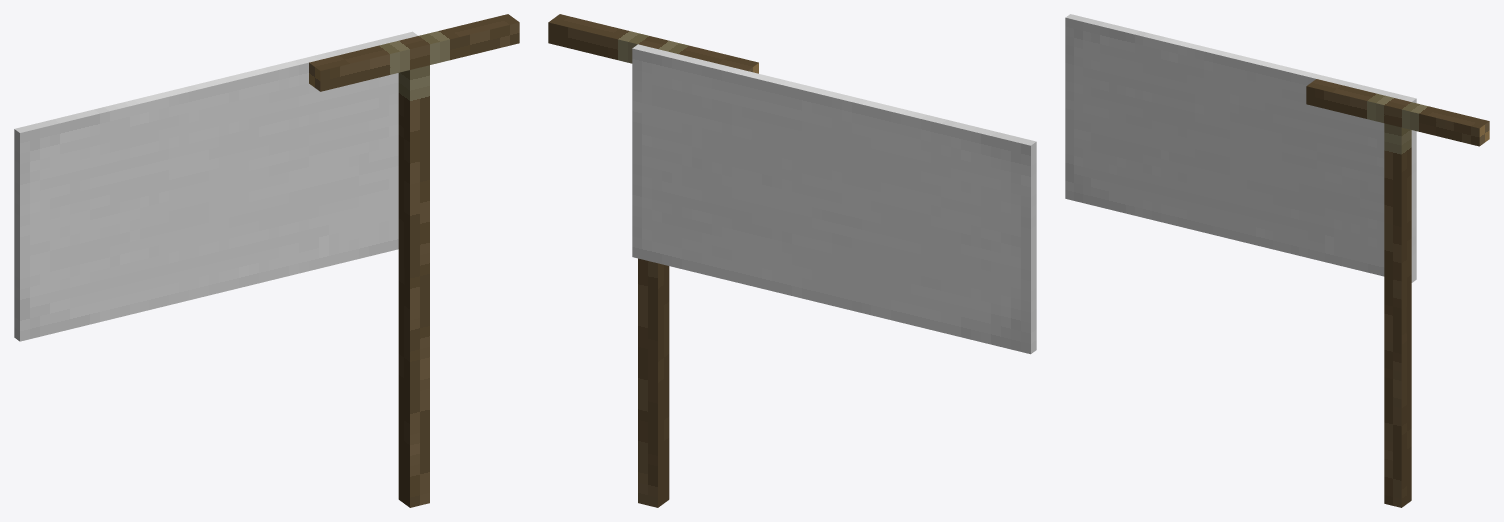
The model's file is flag.gltf.
The picture shows the model from 3 angles, left to right: view 1: azimuth 30°, elevation 25°; view 2: azimuth 150°, elevation 25°; view 3: azimuth 330°, elevation 25°; orthographic projection. The views are drawn at different scales.
Visible parts, largest first — view 1: slate, stand, top; view 2: slate, stand, top; view 3: slate, stand, top.
Boxes of the visible parts, <box> form: slate: <box>14,31,418,341</box>; stand: <box>398,65,429,507</box>; top: <box>309,14,519,91</box>; slate: <box>632,44,1036,354</box>; stand: <box>638,258,669,507</box>; top: <box>548,14,758,73</box>; slate: <box>1065,14,1416,282</box>; stand: <box>1384,123,1411,507</box>; top: <box>1306,79,1489,146</box>.
Size of the model in its own units: 3.06 by 2.75 by 0.1875.
1 material, 1 textured.
